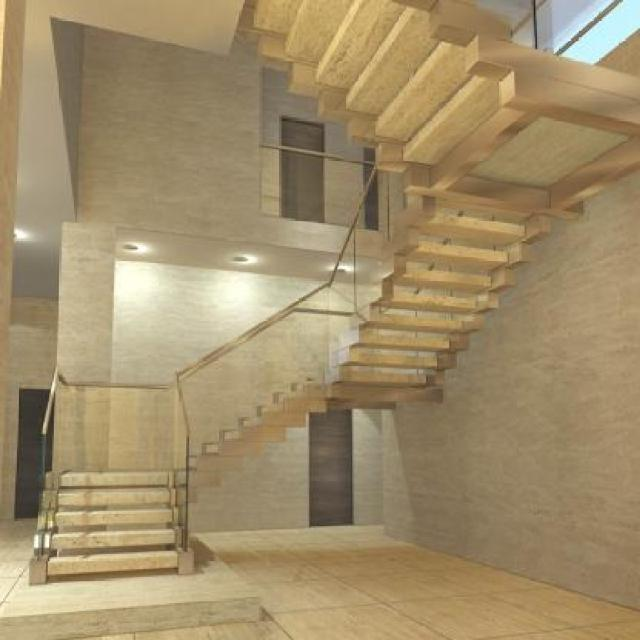stair: (22, 179, 516, 601)
